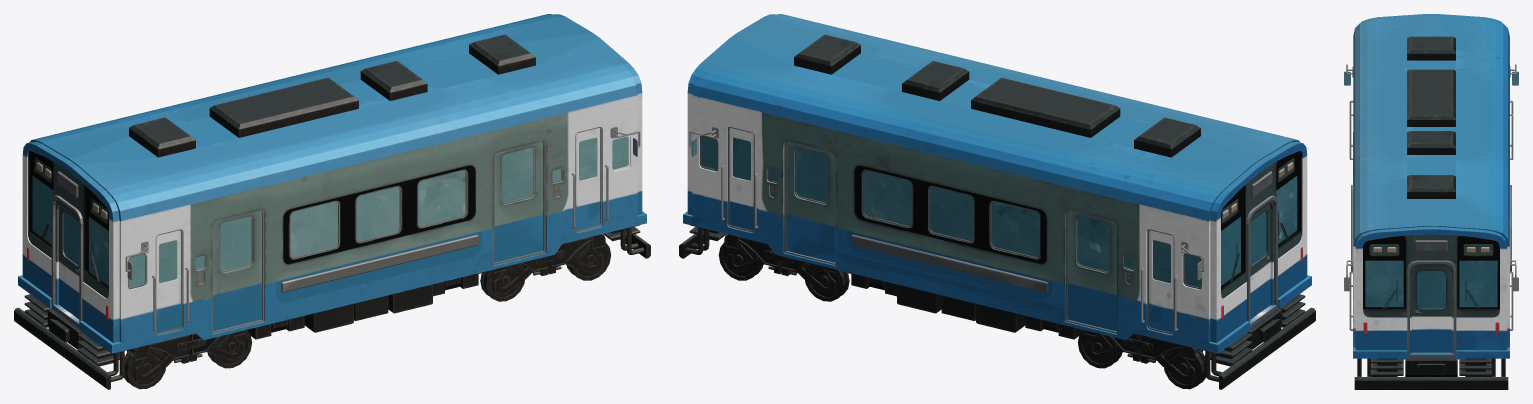
Rendered from tren.glb.
3 views of the same model, side by side, from view 1: azimuth 30°, elevation 25°; view 2: azimuth 150°, elevation 25°; view 3: azimuth 270°, elevation 25° (orthographic). The views are drawn at different scales.
Visible parts, largest first — view 1: Plane, Cube.004; view 2: Plane, Cube.004; view 3: Plane, Cube.004.
Part boxes in pixels (<box>): Plane: <box>18,14,646,353</box>; Cube.004: <box>14,127,650,389</box>; Plane: <box>683,14,1311,353</box>; Cube.004: <box>679,127,1315,389</box>; Plane: <box>1351,14,1511,358</box>; Cube.004: <box>1344,64,1518,389</box>.
Size of the model in its own units: 1129 by 429 by 373.
2 materials, 2 textured.
